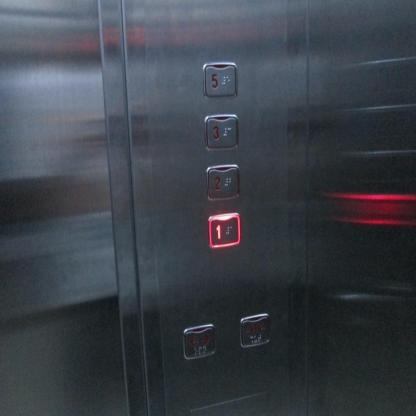1: (206, 210, 241, 248)
2: (205, 162, 241, 202)
3: (204, 112, 240, 152)
5: (202, 61, 238, 98)
close: (239, 313, 271, 347)
open: (182, 322, 216, 360)
